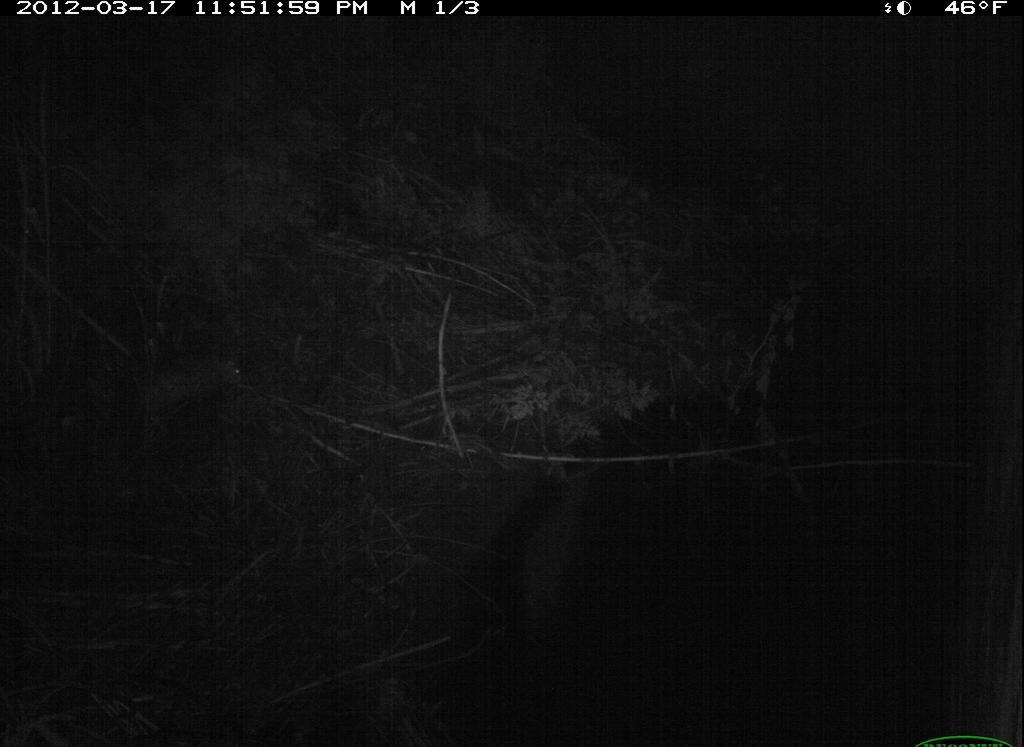opossum: (113, 332, 265, 424)
